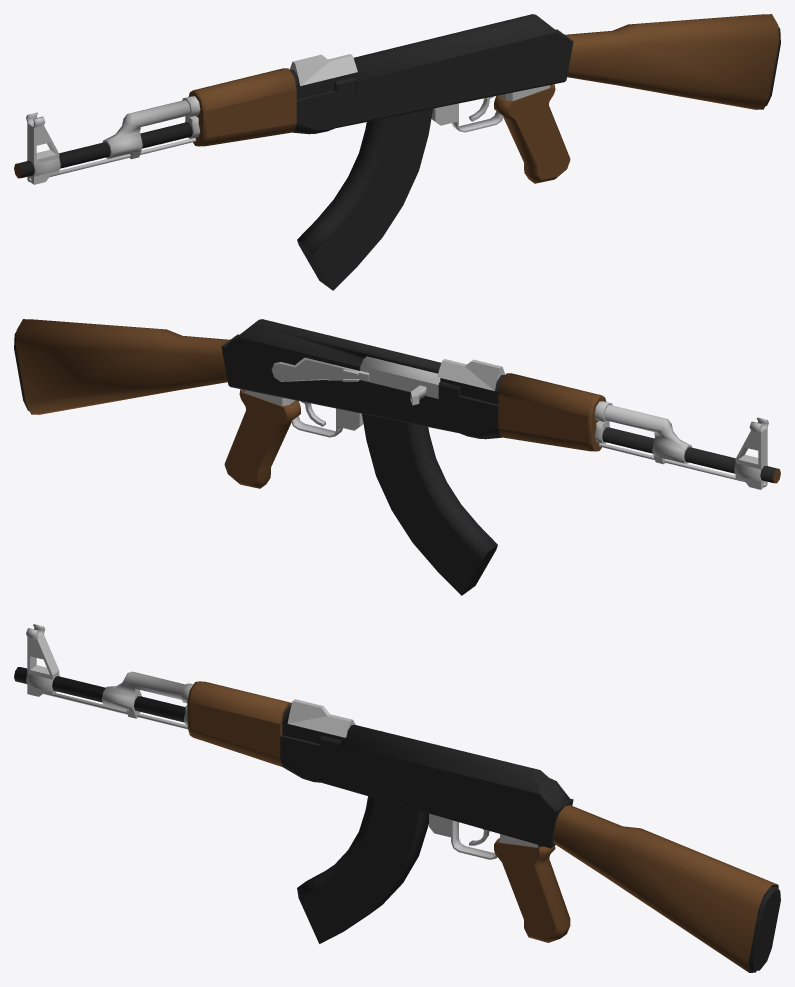
Rendered from akm228.fbx.
3 renders of one model, top to bottom at view 1: azimuth 30°, elevation 25°; view 2: azimuth 150°, elevation 25°; view 3: azimuth 330°, elevation 25°, orthographic.
Parts seen in each view (by area): view 1: LD_Ak47; view 2: LD_Ak47; view 3: LD_Ak47.
Boxes of the visible parts, x1=… form: LD_Ak47: x1=14, y1=14, x2=780, y2=290; LD_Ak47: x1=14, y1=319, x2=780, y2=595; LD_Ak47: x1=14, y1=624, x2=780, y2=972.
Size of the model in its own units: 939 by 285 by 68.84.
